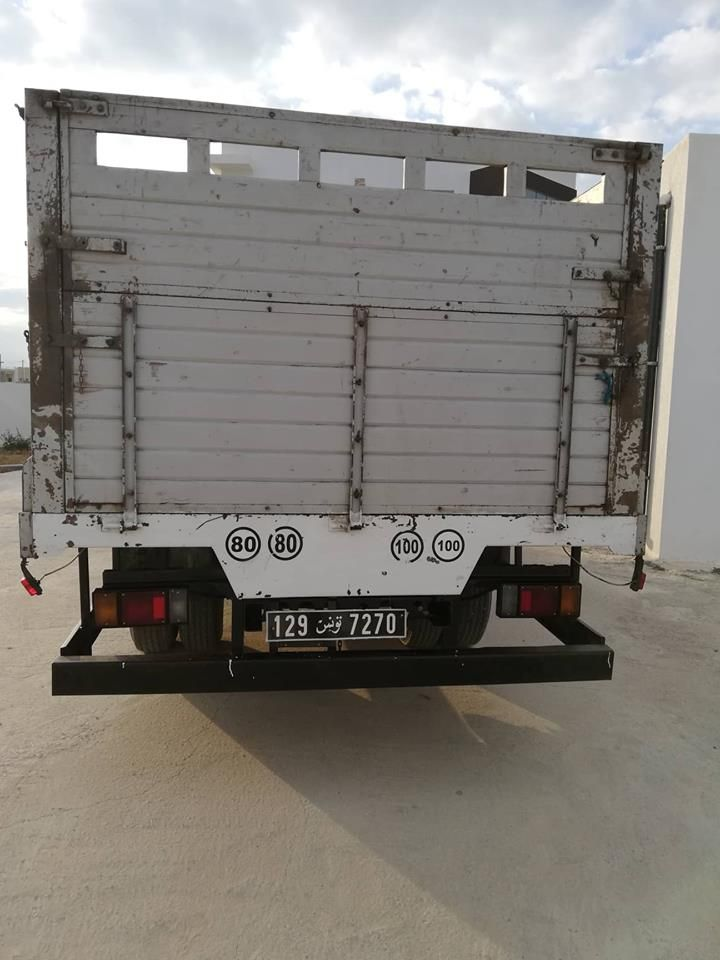LP: (264, 609, 407, 642)
